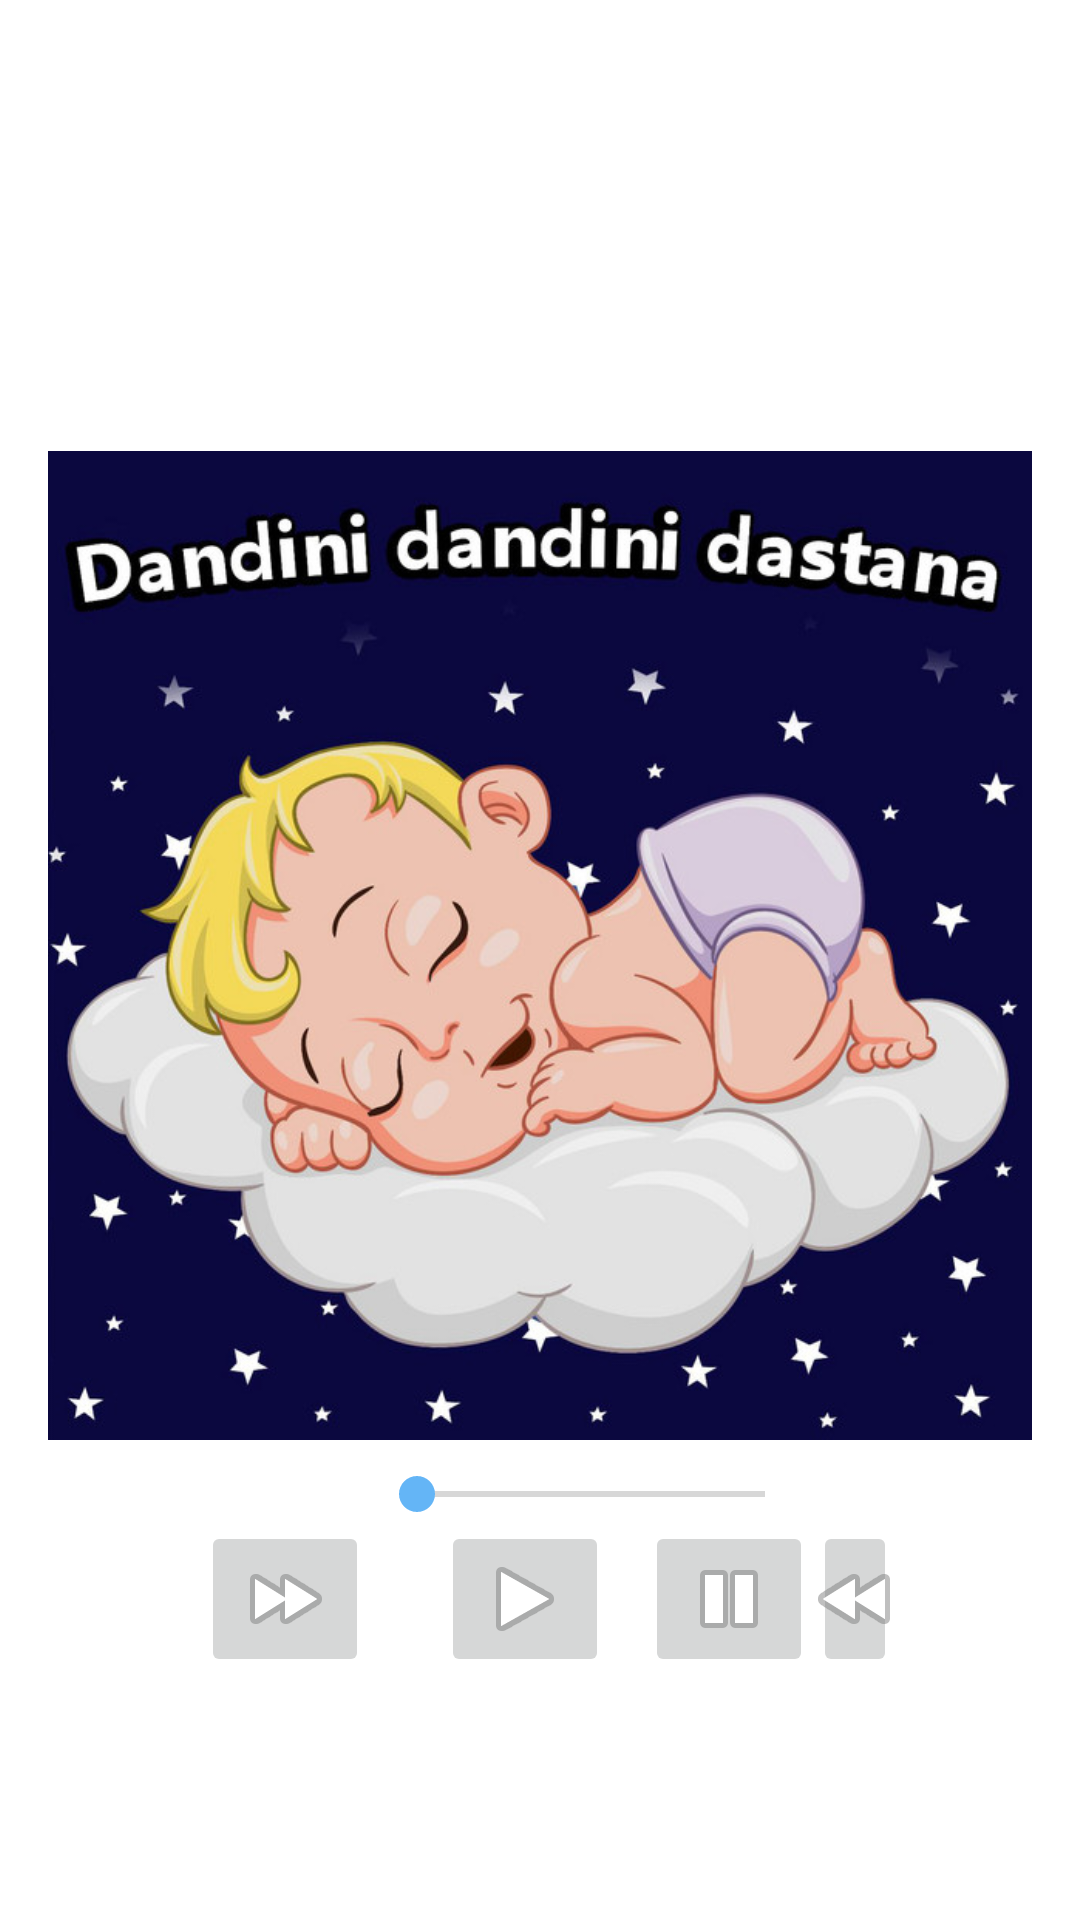

Icons on this 1080x1920 Android screen, each with its box as rect(x1, y1, x2, y2):
pause: rect(657, 1539, 801, 1659)
play: rect(453, 1539, 597, 1659)
rew: rect(818, 1539, 890, 1659)
